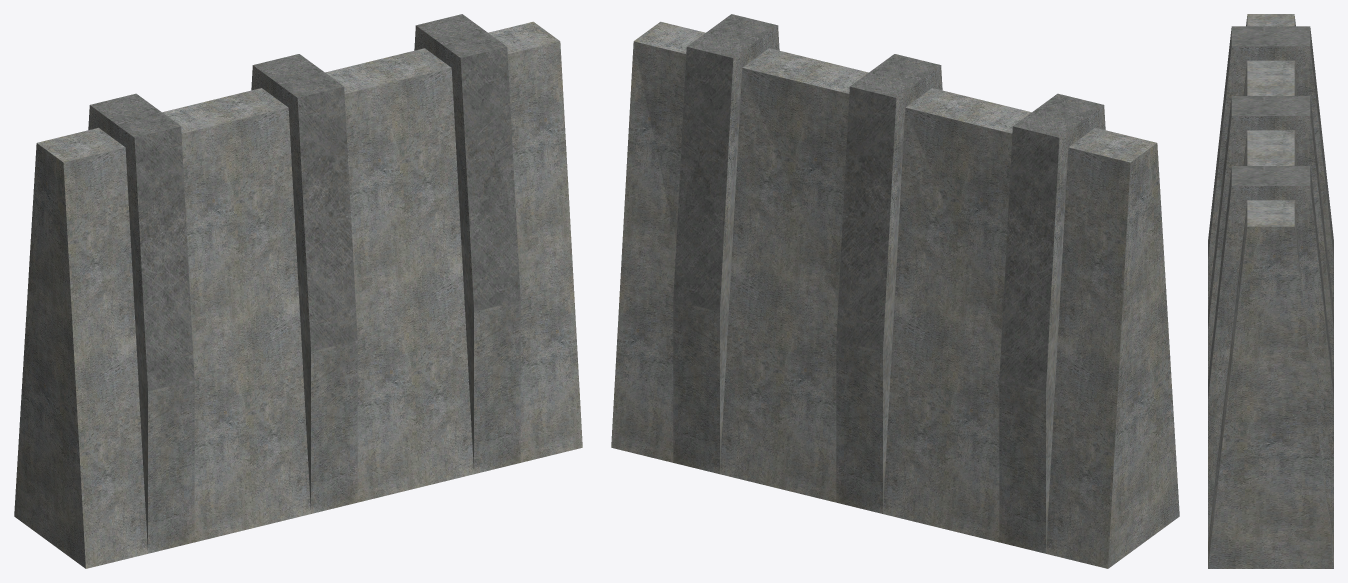
The model's file is mun_all_military_wall_med_impl_s01_l1.fbx.
The picture shows the model from 3 angles, left to right: view 1: azimuth 30°, elevation 25°; view 2: azimuth 150°, elevation 25°; view 3: azimuth 270°, elevation 25°; orthographic projection. The views are drawn at different scales.
Parts seen in each view (by area): view 1: mesh_node; view 2: mesh_node; view 3: mesh_node.
Part boxes in pixels (box(x1,y1,x2,y2)): mesh_node: box(14, 14, 582, 568); mesh_node: box(611, 14, 1179, 568); mesh_node: box(1208, 14, 1333, 568).
Bounding box in the file's own units: 8 × 6.25 × 2.
